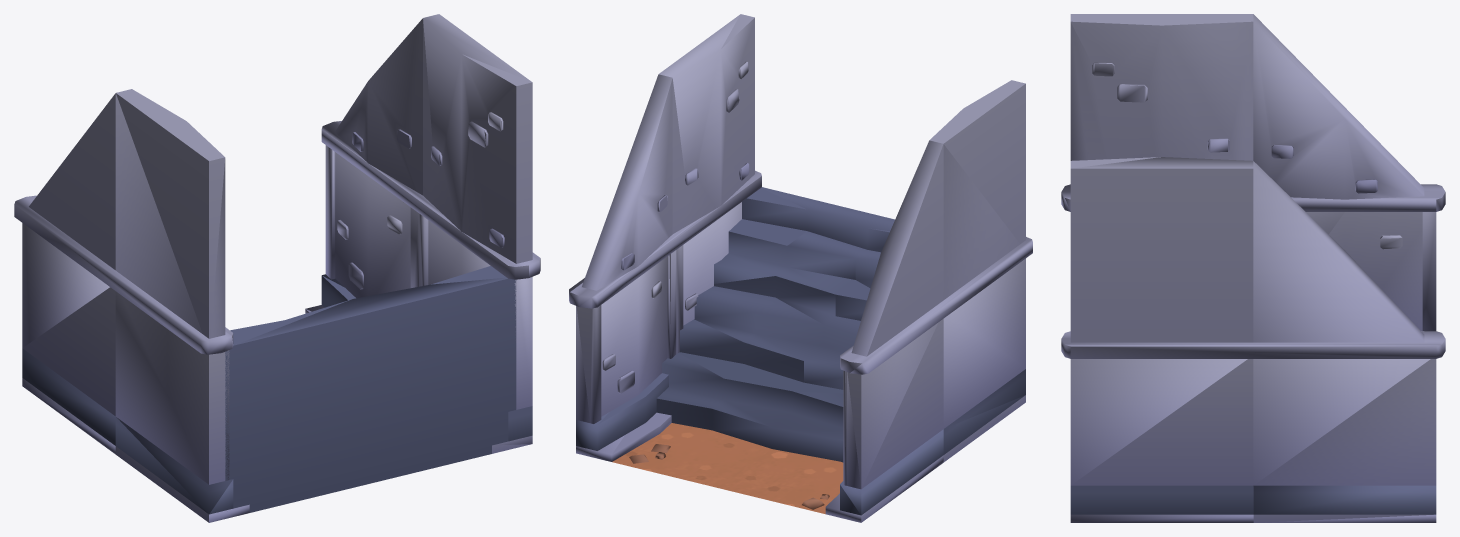
The model's file is stairs-wide.fbx.
The picture shows the model from 3 angles, left to right: view 1: azimuth 30°, elevation 25°; view 2: azimuth 150°, elevation 25°; view 3: azimuth 270°, elevation 25°; orthographic projection. The views are drawn at different scales.
Parts seen in each view (by area): view 1: stairs-wide; view 2: stairs-wide; view 3: stairs-wide.
Part boxes in pixels (x1=…): stairs-wide: x1=14, y1=14, x2=540, y2=522; stairs-wide: x1=569, y1=14, x2=1032, y2=522; stairs-wide: x1=1061, y1=14, x2=1445, y2=522.
Bounding box in the file's own units: 840 × 855 × 840.
